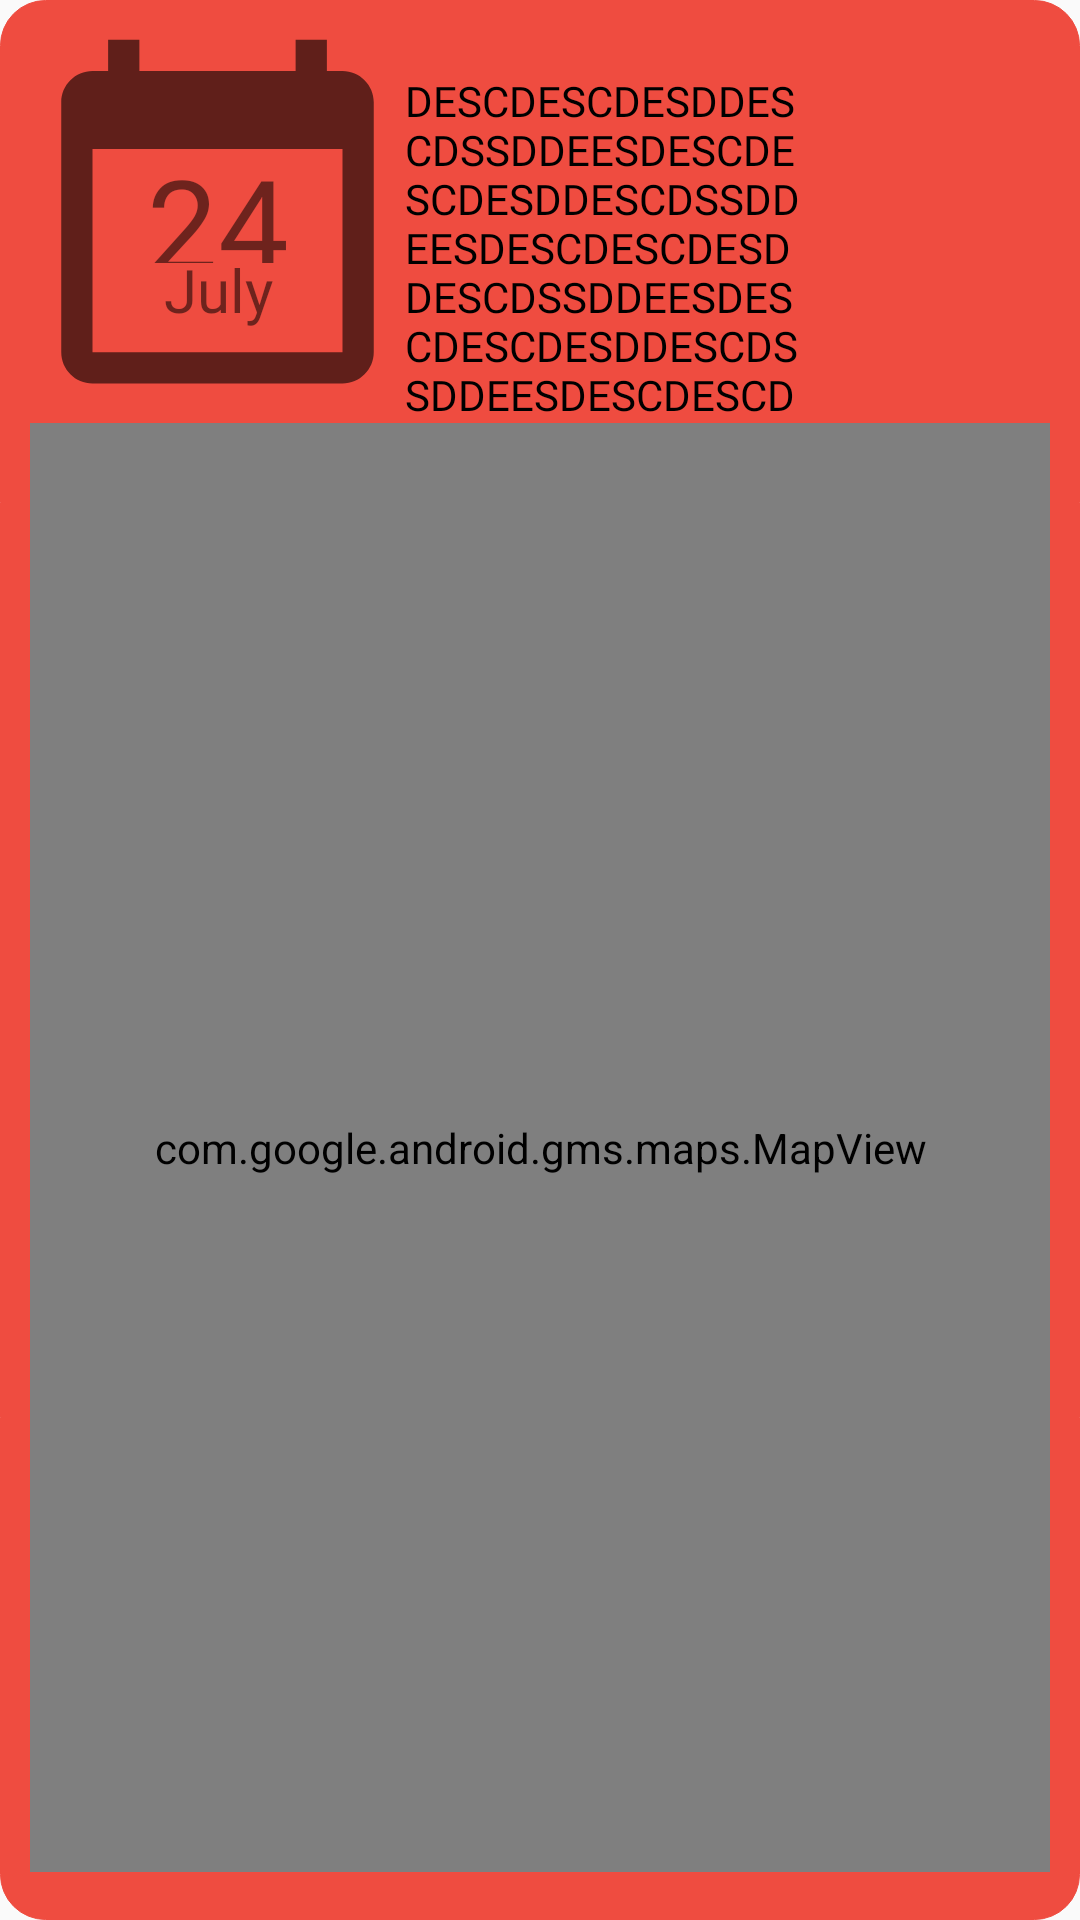

Icons on this 1080 × 1920 Android screen, each with its box as (x1, y1, x2, y2):
calendar: (61, 39, 374, 384)
